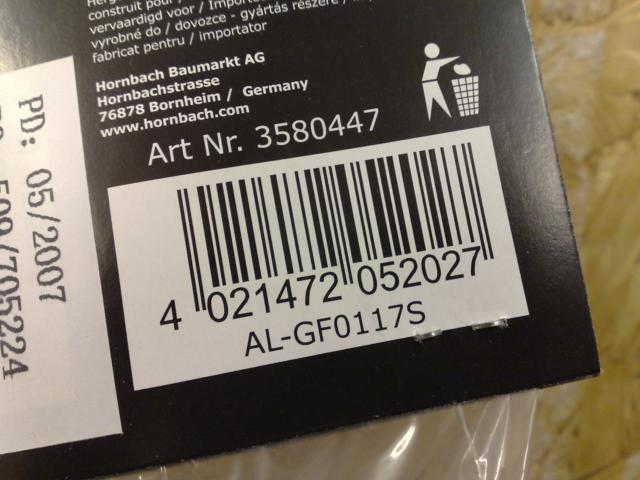Barcode: (151, 141, 497, 335)
